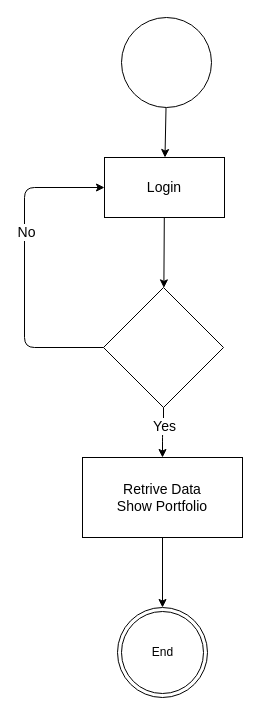
Image size: 260x715. Some labels were removed from this diagram. The shapes that lost their labels are listed below. From the top down, each one's centre as x and y in pixels, then its label:
pixel 166 62: Start
pixel 163 347: Validate
